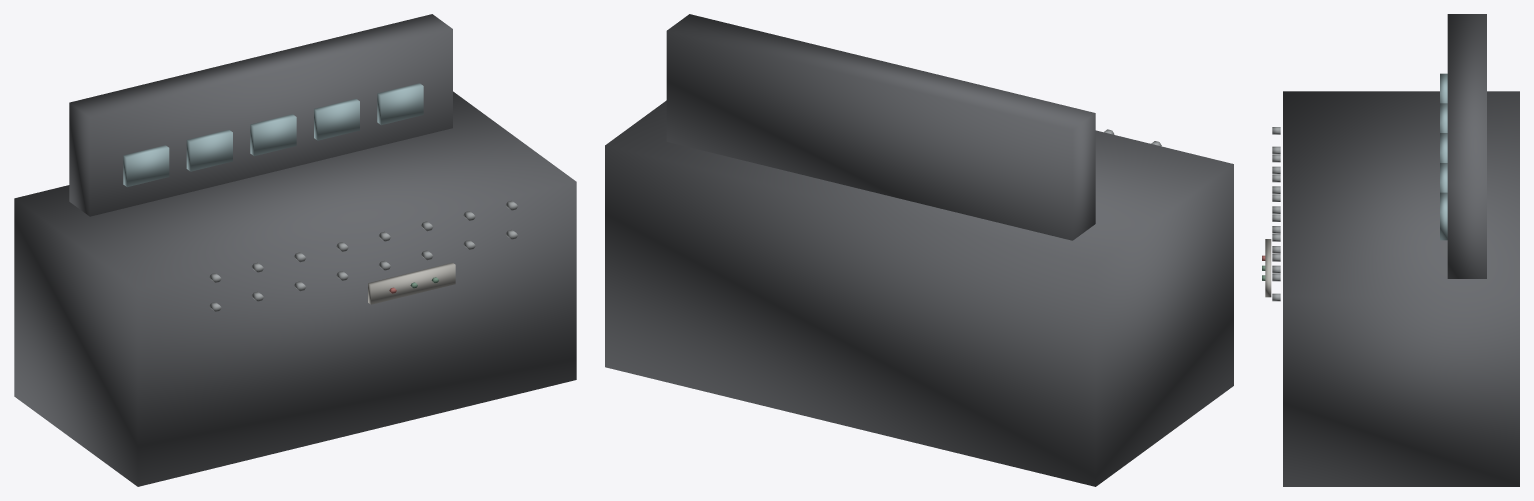
File: radio_console__squat.glb
The picture shows the model from 3 angles, left to right: view 1: azimuth 30°, elevation 25°; view 2: azimuth 150°, elevation 25°; view 3: azimuth 270°, elevation 25°; orthographic projection. The views are drawn at different scales.
Parts seen in each view (by area): view 1: world; view 2: world; view 3: world.
Part boxes in pixels (bbox=[...]): world: bbox=[14, 14, 576, 486]; world: bbox=[605, 14, 1233, 486]; world: bbox=[1262, 14, 1519, 486].
Bounding box in the file's own units: 1.6 × 1.03 × 0.8462.
